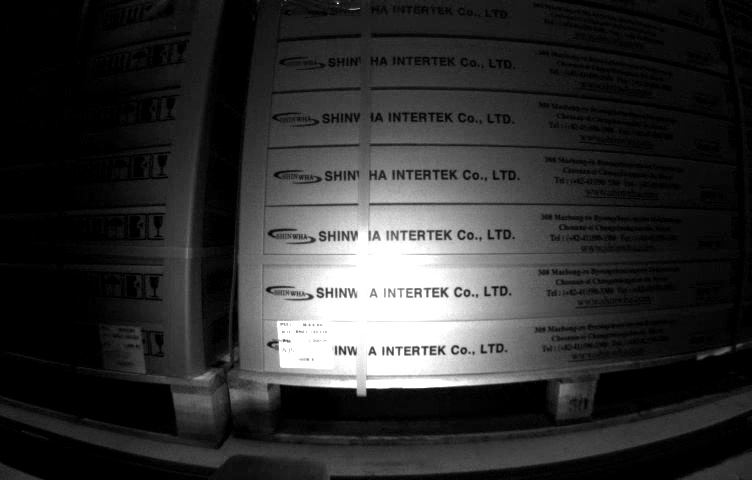True Barcode: (277, 321, 336, 371), (99, 324, 147, 376)
